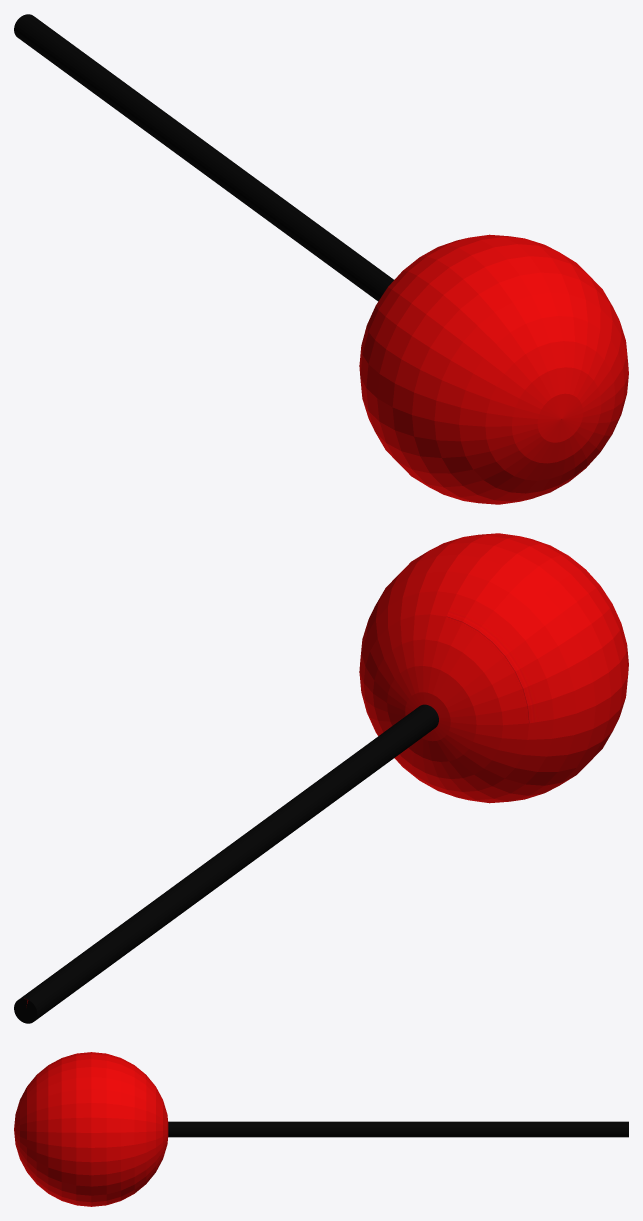
Rendered from pin.gltf.
3 views of the same model, one above another, from view 1: azimuth 30°, elevation 25°; view 2: azimuth 150°, elevation 25°; view 3: azimuth 270°, elevation 25° (orthographic). The views are drawn at different scales.
Parts seen in each view (by area): view 1: Pin; view 2: Pin; view 3: Pin.
Part boxes in pixels (x1,y1,x2,y2): Pin: (14, 14, 628, 504); Pin: (14, 533, 628, 1023); Pin: (14, 1052, 628, 1206).
Size of the model in its own units: 1.26 by 1.26 by 5.
Materials: 1 (1 with a texture image).
